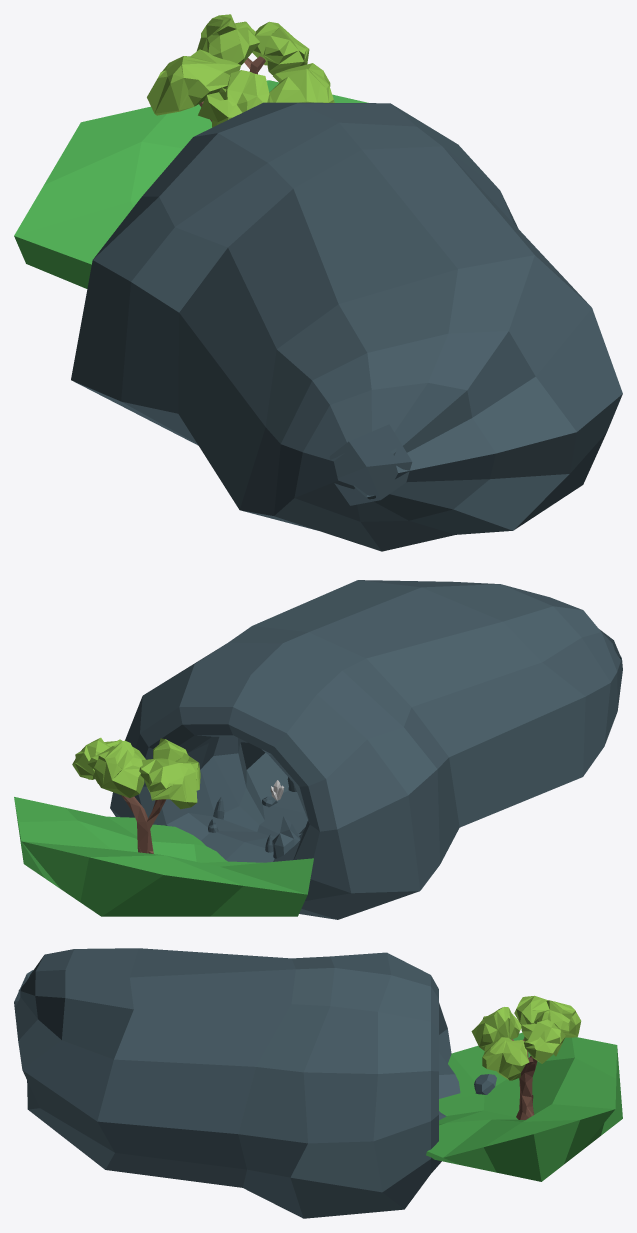
The model's file is Cave.fbx.
3 views of the same model, one above another, from view 1: azimuth 30°, elevation 25°; view 2: azimuth 150°, elevation 25°; view 3: azimuth 270°, elevation 25° (orthographic). The views are drawn at different scales.
Parts seen in each view (by area): view 1: group_96187052; view 2: group_96187052; view 3: group_96187052.
Part boxes in pixels (left/top/right/bottom): group_96187052: left=14, top=14, right=622, bottom=551; group_96187052: left=14, top=580, right=622, bottom=919; group_96187052: left=14, top=948, right=622, bottom=1218.
Size of the model in its own units: 321 by 208 by 550.
